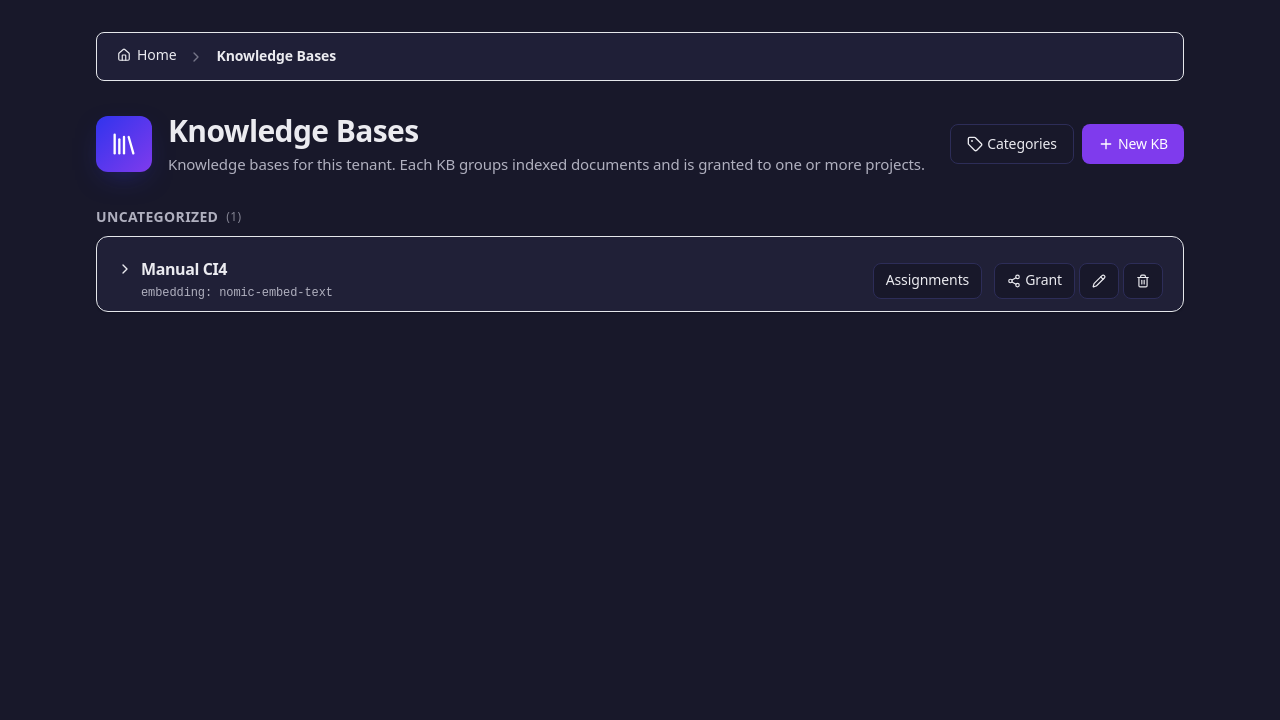
Test case: knowledge-bases en inglés › traduce el diálogo de borrado con confirmación por nombre
Click the button with test id "kb-delete-kb-1" at (1143, 281), box [1123,263,1163,299]
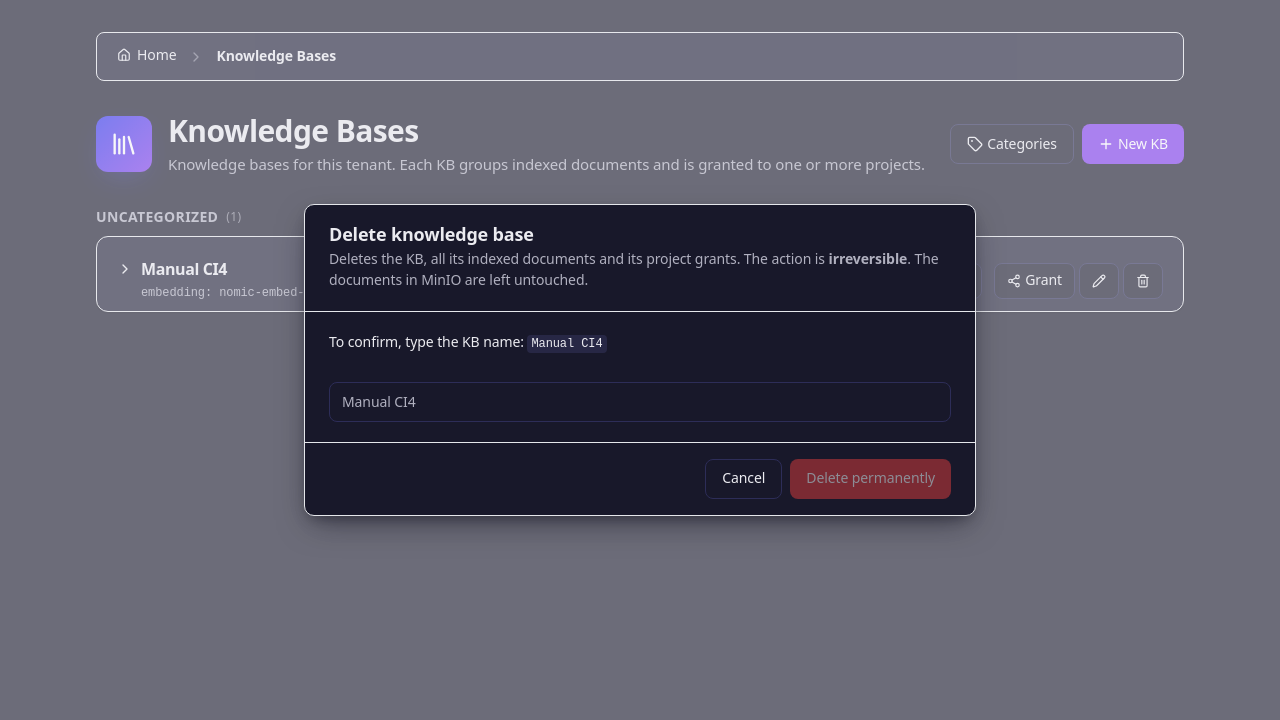
Result: the field with test id "kb-delete-confirm-input" is shown at [329,382,951,422]
Result: the heading "Delete knowledge base" is shown at [329,222,534,246]
Result: the text "irreversible" is shown at [828,249,907,268]
